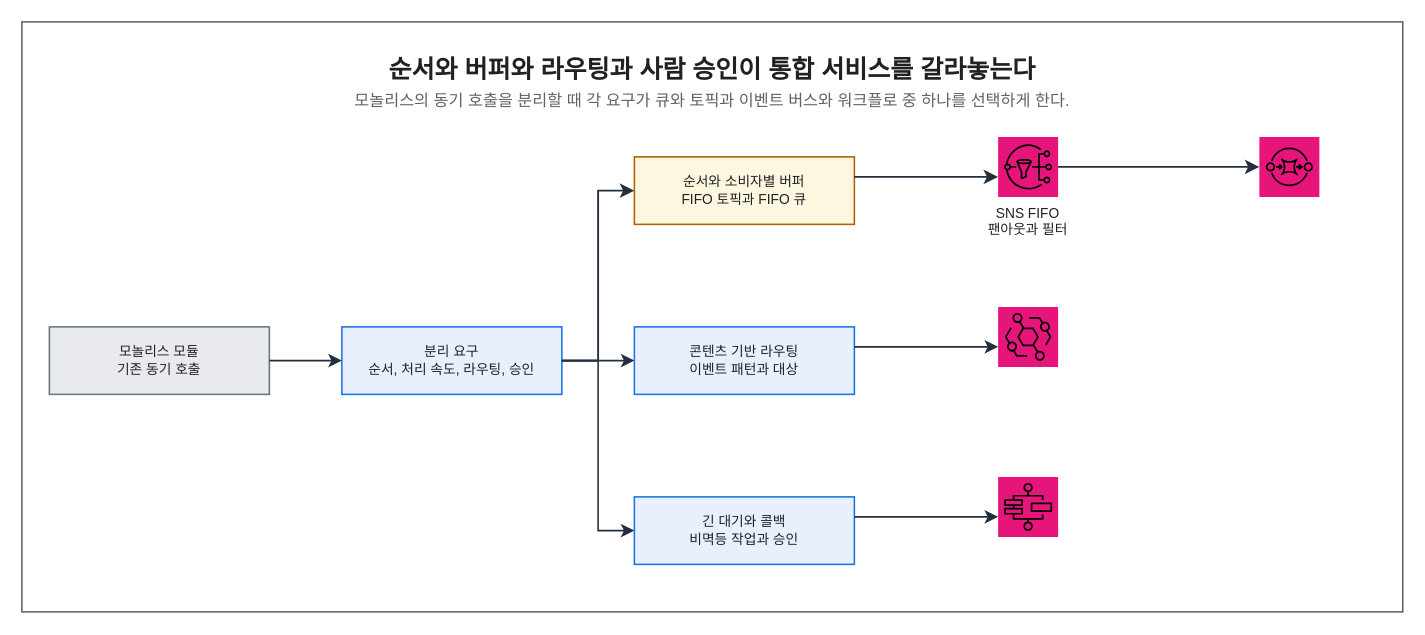
This 1425x635 diagram has some shape labels left out. The centre of each missing label's shape, as x and y in pixels:
Amazon EventBridge rule 기반 라우팅: (1028,336)
SQS FIFO 소비자별 보존과 순서: (1289,166)
Step Functions Standard 긴 실행과 callback: (1028,506)
